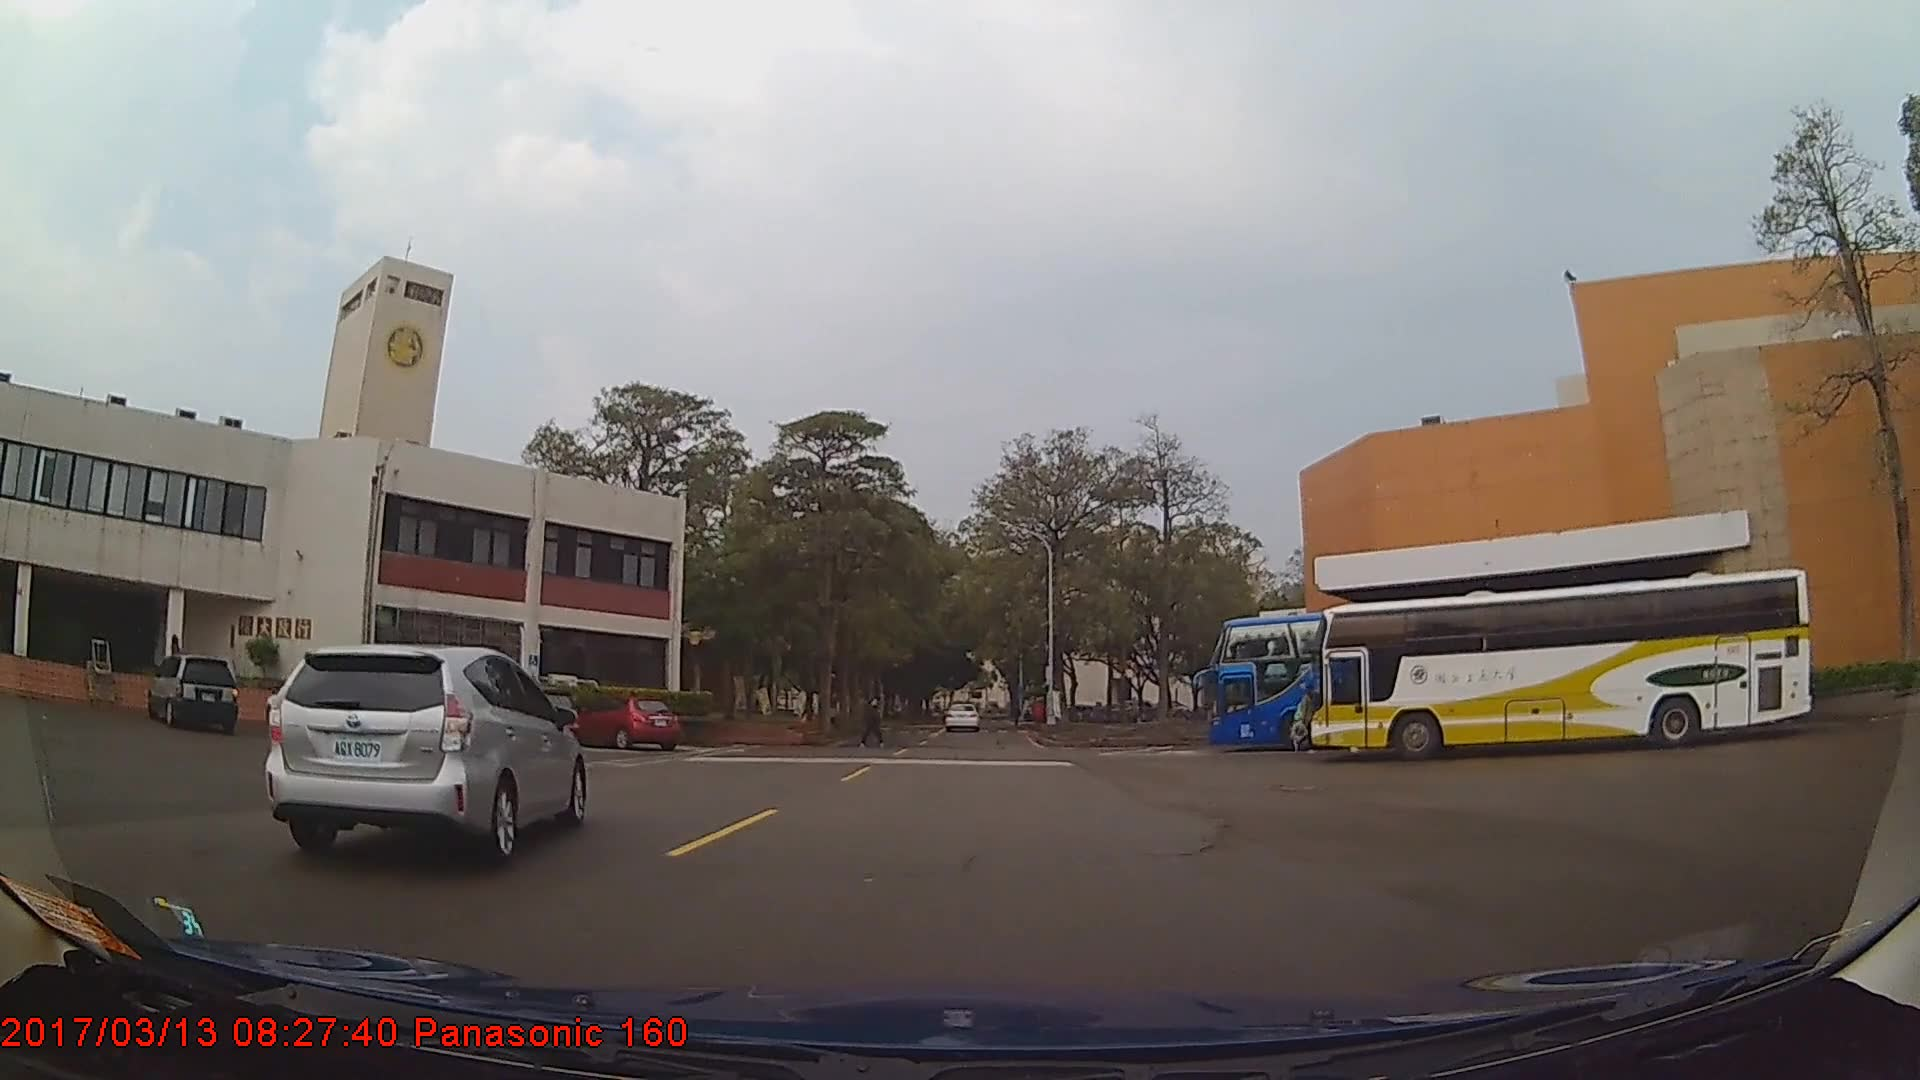pedestrian: (862, 690, 884, 745)
vehicle: (1311, 564, 1814, 762), (262, 642, 586, 863), (1209, 614, 1678, 755), (145, 652, 237, 732), (580, 694, 682, 751), (945, 703, 979, 732)
